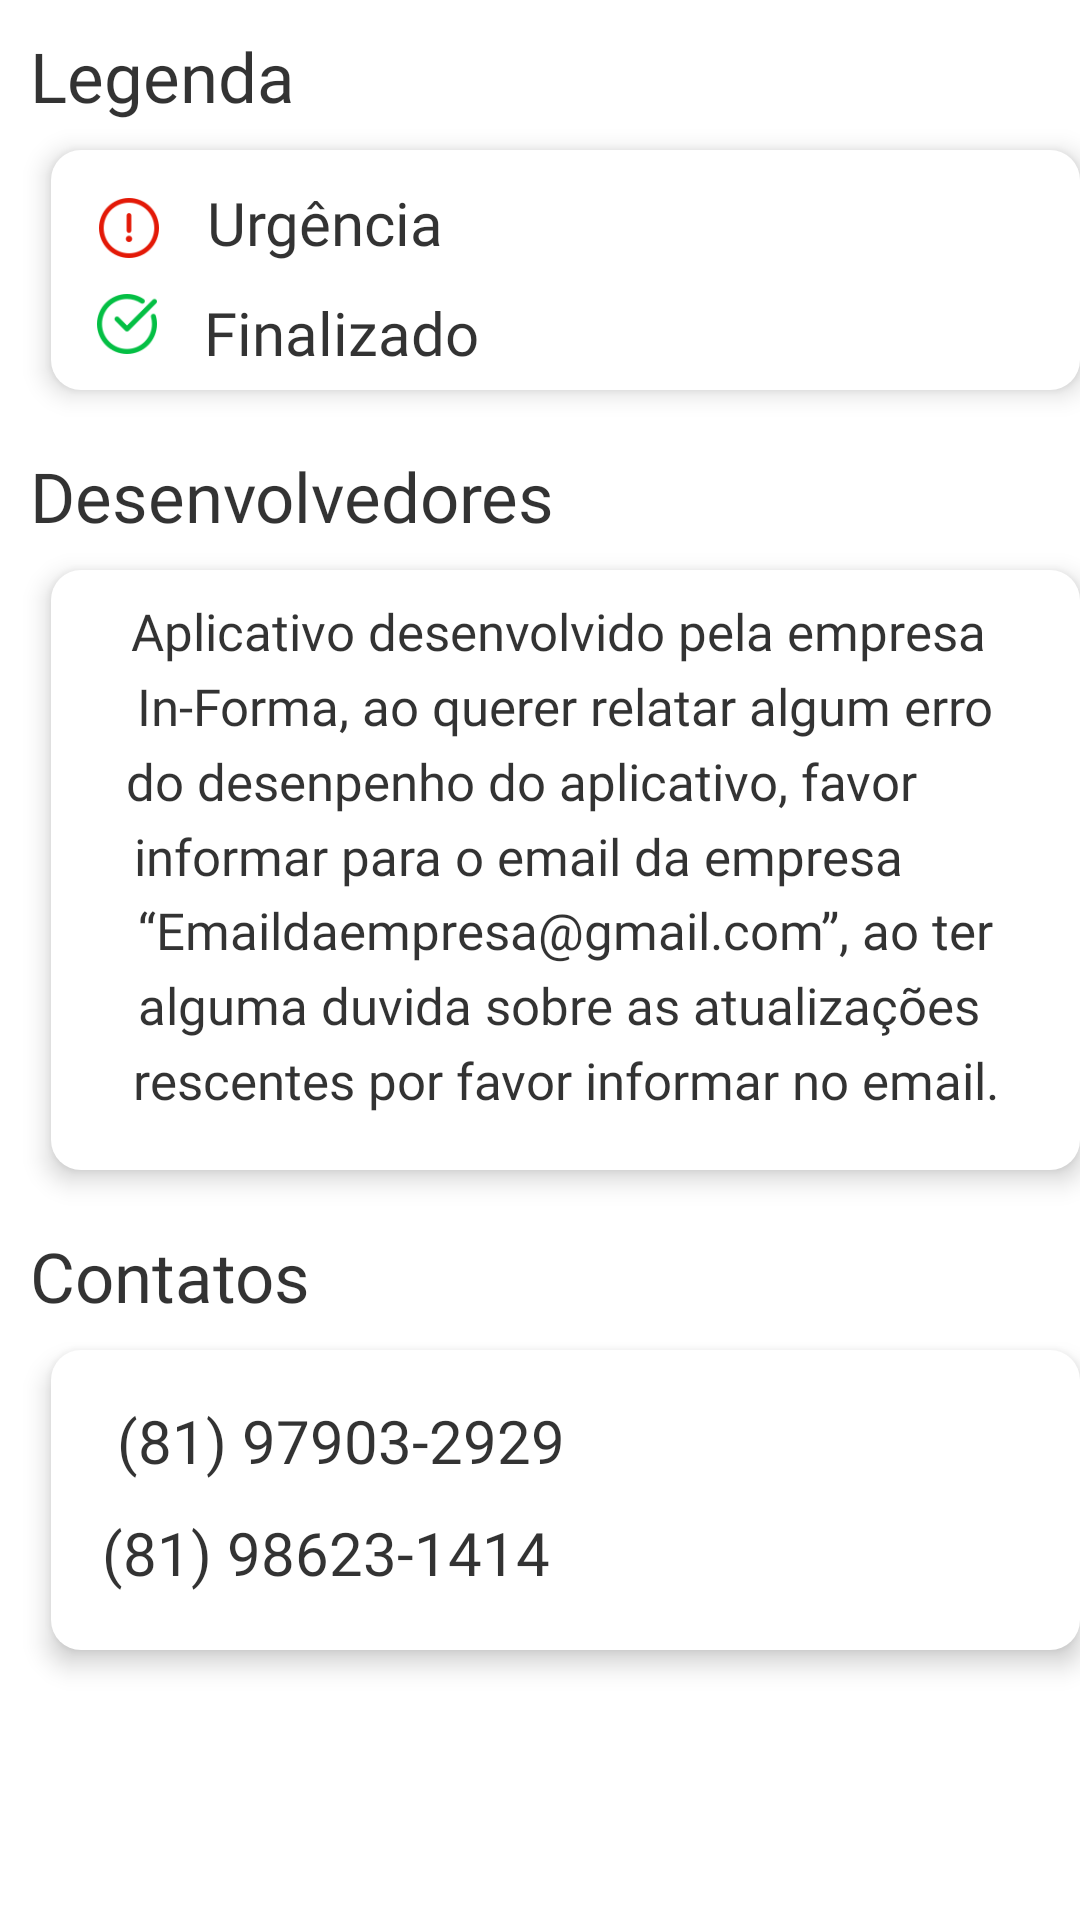

Locate icon controls on the screen. Image size 1080*1920, boxes as [x1, y1, x2, y2].
alert: [99, 198, 159, 258]
check: [97, 294, 157, 354]
